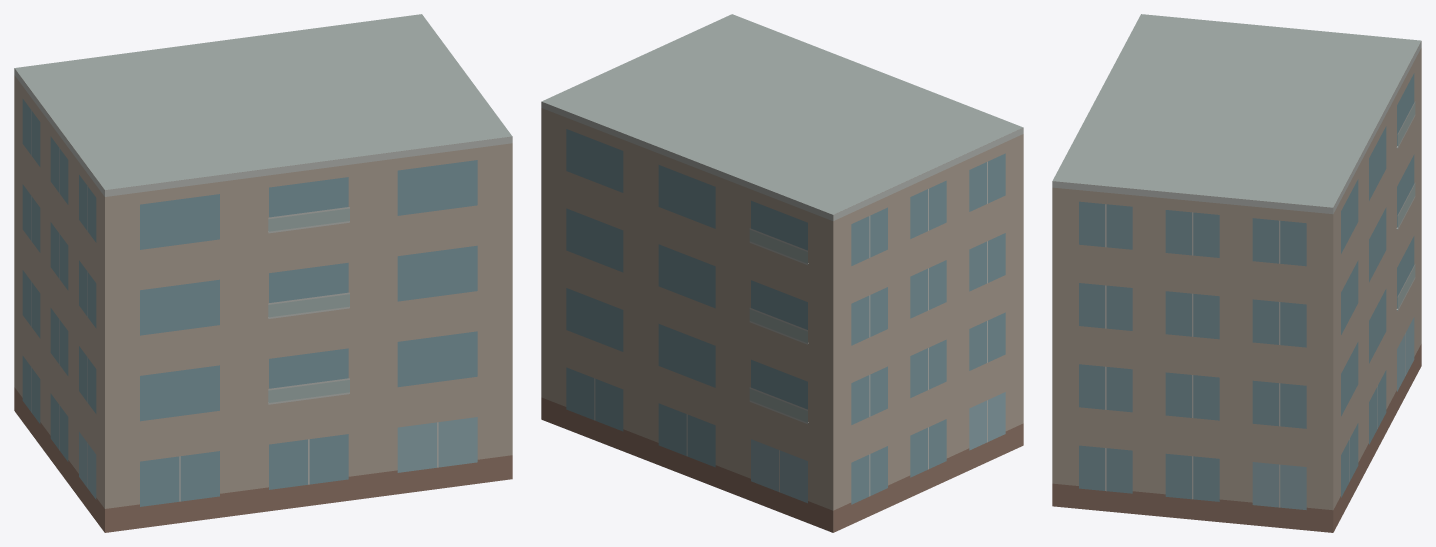
File: residential-b134ef09-8835-4f88-bfda-e0fe6a49eac4.glb
3 renders of one model, left to right at view 1: azimuth 30°, elevation 25°; view 2: azimuth 150°, elevation 25°; view 3: azimuth 270°, elevation 25°, orthographic. The views are drawn at different scales.
Parts seen in each view (by area): view 1: residential-b134ef09-8835-4f88-bfda-e0fe6a49eac4.tmp; view 2: residential-b134ef09-8835-4f88-bfda-e0fe6a49eac4.tmp; view 3: residential-b134ef09-8835-4f88-bfda-e0fe6a49eac4.tmp.
Part boxes in pixels (left/top/right/bottom): residential-b134ef09-8835-4f88-bfda-e0fe6a49eac4.tmp: left=14, top=14, right=512, bottom=532; residential-b134ef09-8835-4f88-bfda-e0fe6a49eac4.tmp: left=541, top=14, right=1023, bottom=532; residential-b134ef09-8835-4f88-bfda-e0fe6a49eac4.tmp: left=1052, top=14, right=1421, bottom=532.
Size of the model in its own units: 15.6 by 12.2 by 12.57.
